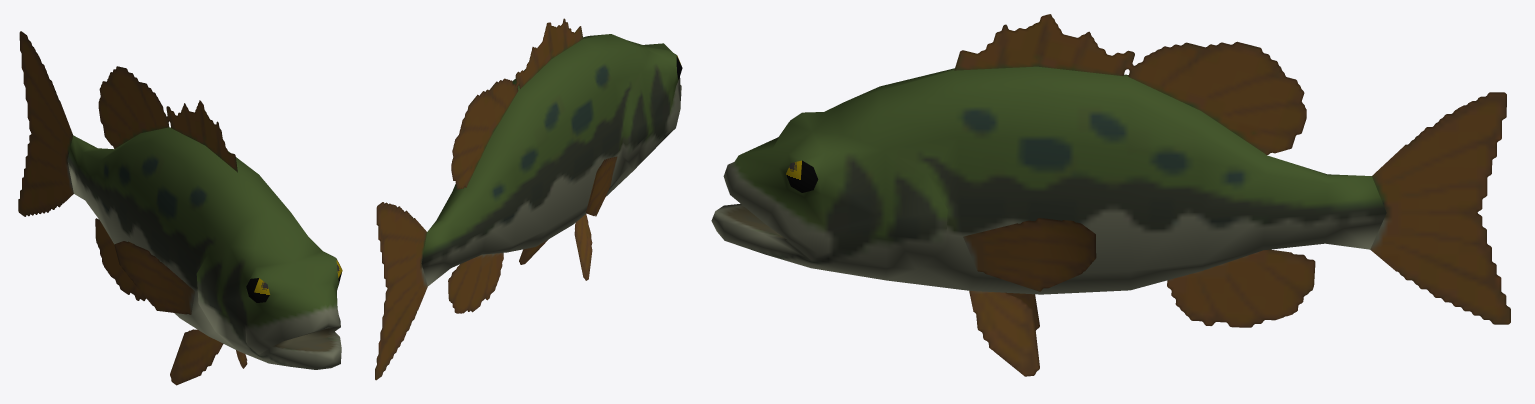
Rendered from Bass.obj.
3 renders of one model, left to right at view 1: azimuth 30°, elevation 25°; view 2: azimuth 150°, elevation 25°; view 3: azimuth 270°, elevation 25°, orthographic. The views are drawn at different scales.
Parts seen in each view (by area): view 1: Model__Mt_Body, Model__Mt_Eye; view 2: Model__Mt_Body; view 3: Model__Mt_Body, Model__Mt_Eye.
Part boxes in pixels (bbox=[...]): Model__Mt_Body: bbox=[18, 31, 341, 385]; Model__Mt_Eye: bbox=[246, 259, 342, 302]; Model__Mt_Body: bbox=[375, 18, 681, 380]; Model__Mt_Body: bbox=[711, 14, 1510, 376]; Model__Mt_Eye: bbox=[786, 160, 818, 192].
Bounding box in the file's own units: 0.3076 × 0.5742 × 1.2.
Materials: 2 (2 with a texture image).
